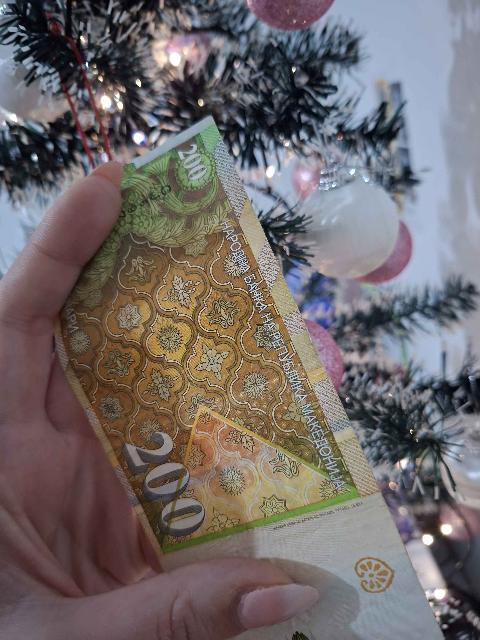200_note: (58, 119, 441, 639)
